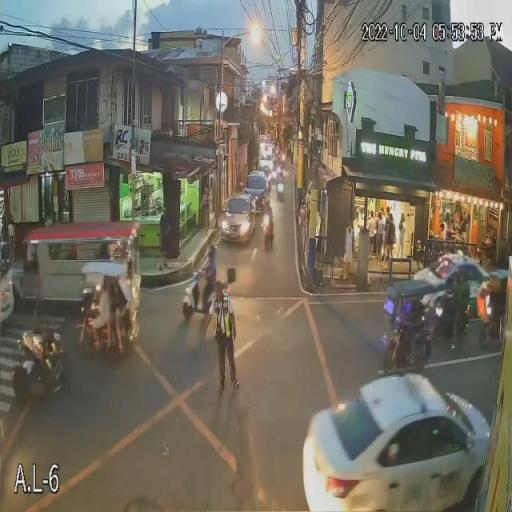helmet: (206, 244, 219, 262)
motorcycle: (17, 337, 69, 393), (428, 289, 470, 346), (181, 270, 219, 322), (262, 220, 275, 253)
rider: (28, 304, 57, 380), (438, 266, 468, 330), (200, 243, 218, 311), (262, 202, 274, 240)
